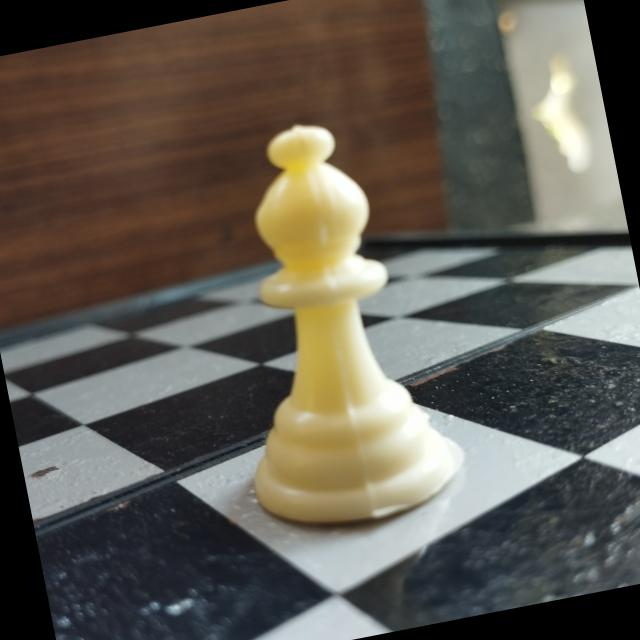White Bishop: (188, 96, 480, 542)
